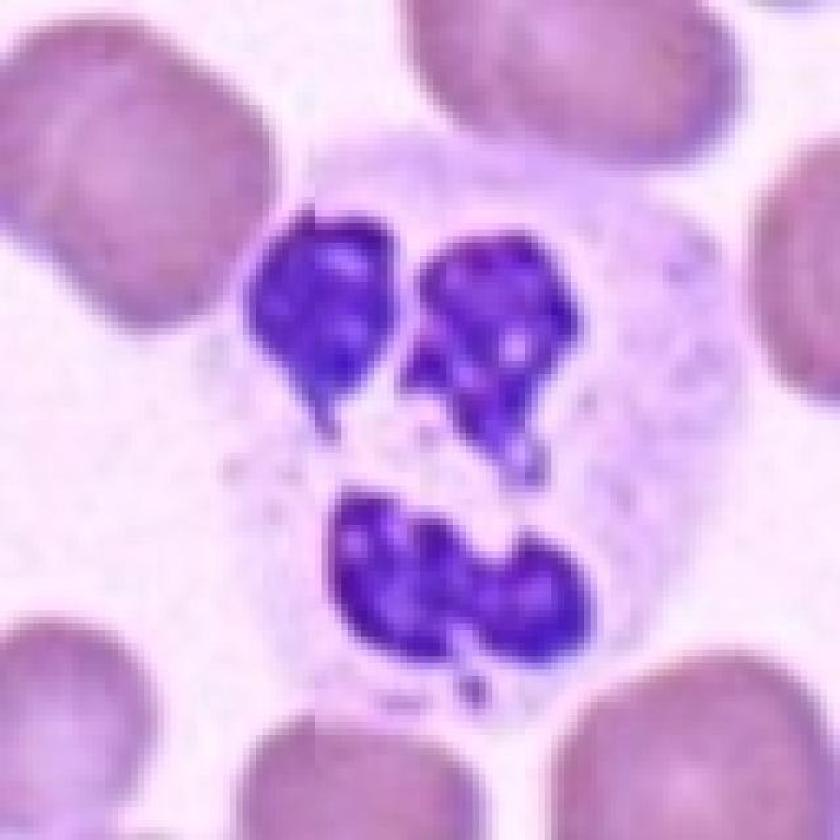neutrophil: (198, 128, 752, 737)
